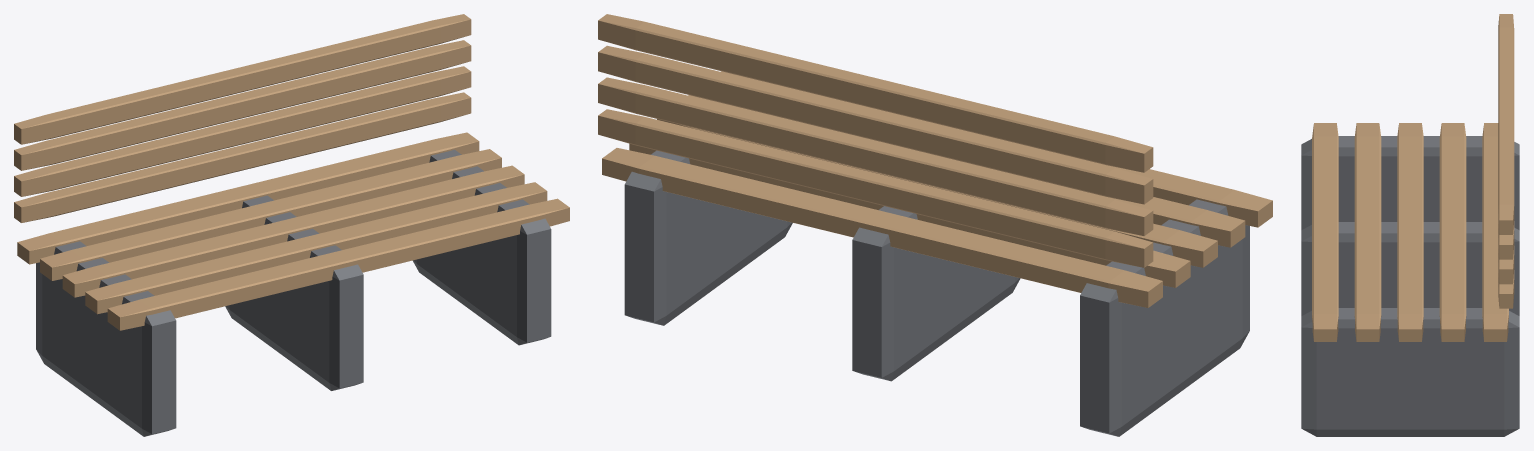
File: b01_double_sided_station_bench.glb
The picture shows the model from 3 angles, left to right: view 1: azimuth 30°, elevation 25°; view 2: azimuth 150°, elevation 25°; view 3: azimuth 270°, elevation 25°; orthographic projection. The views are drawn at different scales.
Visible parts, largest first — view 1: b01_double_sided_station_bench; view 2: b01_double_sided_station_bench; view 3: b01_double_sided_station_bench.
Part boxes in pixels (x1,y1,x2,y2): b01_double_sided_station_bench: [14, 14, 569, 436]; b01_double_sided_station_bench: [598, 14, 1272, 436]; b01_double_sided_station_bench: [1301, 14, 1519, 436].
Bounding box in the file's own units: 2.15 × 1.12 × 0.96.
